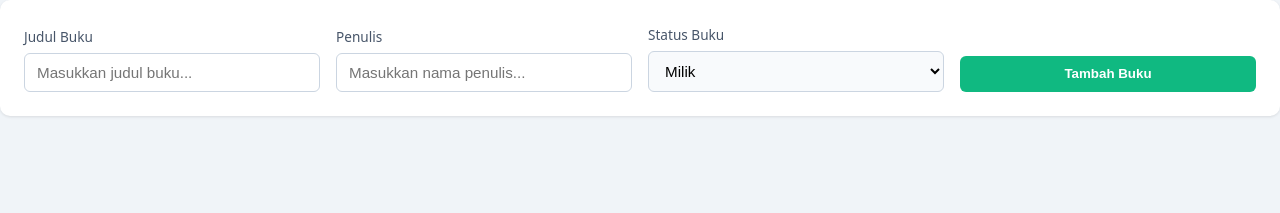
BookForm Component › menampilkan error saat submit form kosong
Click the button "Tambah Buku" at [1108, 74], box left=960, top=56, right=1256, bottom=92
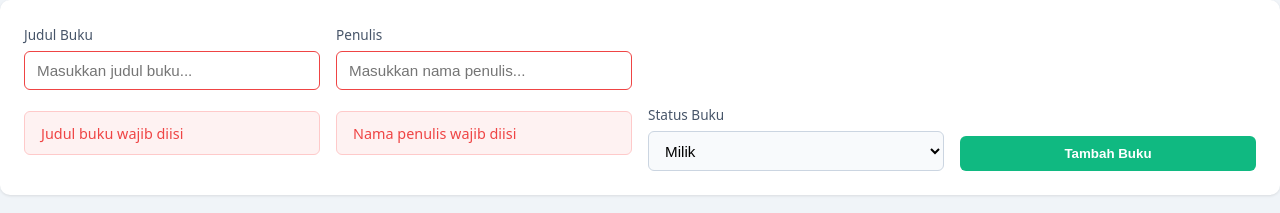
expect the text "Judul buku wajib diisi" is shown: met, box left=24, top=111, right=320, bottom=155
expect the text "Nama penulis wajib diisi" is shown: met, box left=336, top=111, right=632, bottom=155
